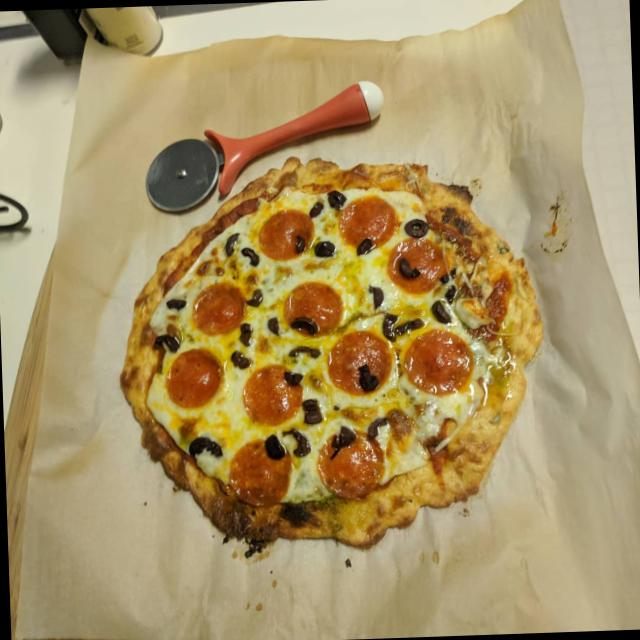black_olives: (378, 309, 422, 339), (232, 322, 254, 360), (188, 432, 222, 456), (300, 393, 326, 424), (260, 428, 284, 456), (292, 426, 314, 456), (323, 182, 344, 212), (367, 278, 388, 308), (152, 330, 178, 354), (402, 216, 428, 240), (247, 282, 268, 309), (365, 411, 386, 437), (357, 360, 375, 390), (291, 315, 315, 337), (313, 238, 337, 260), (222, 226, 241, 253), (283, 364, 306, 386), (332, 424, 354, 447), (228, 348, 250, 370), (239, 245, 258, 267), (430, 297, 447, 319)
pepperoni: (224, 432, 290, 506), (324, 330, 397, 392), (405, 328, 470, 396), (243, 358, 305, 428), (316, 428, 381, 494), (162, 346, 225, 412), (284, 274, 346, 332), (334, 190, 392, 250), (193, 282, 251, 340), (387, 232, 448, 286), (258, 206, 312, 264)
pizza: (119, 159, 543, 552)
